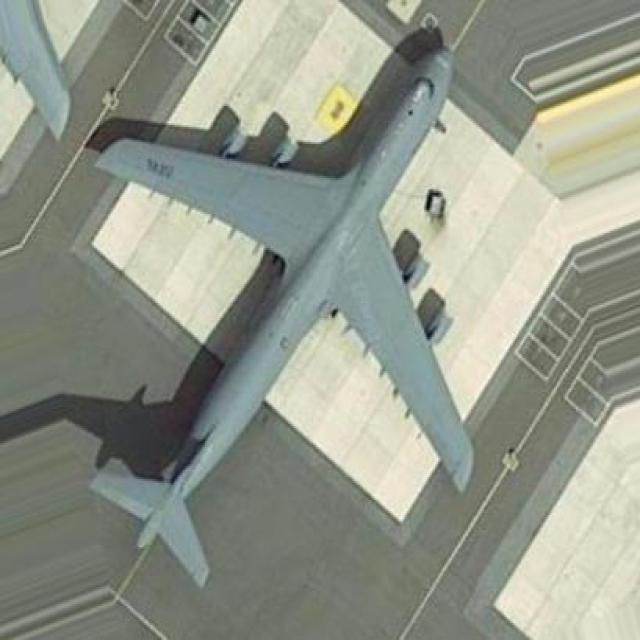C-5_TopDown: (53, 30, 481, 587)
